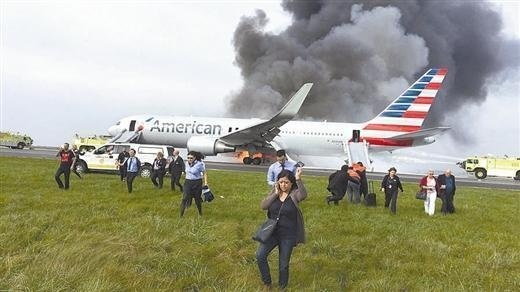fire: (236, 146, 261, 160)
